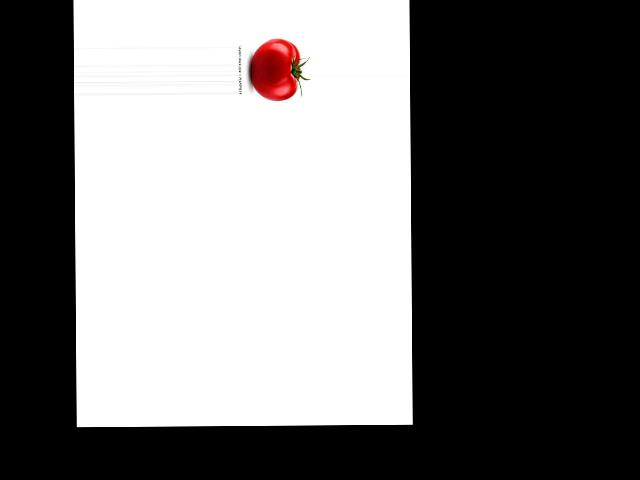tomato: (250, 38, 299, 101)
